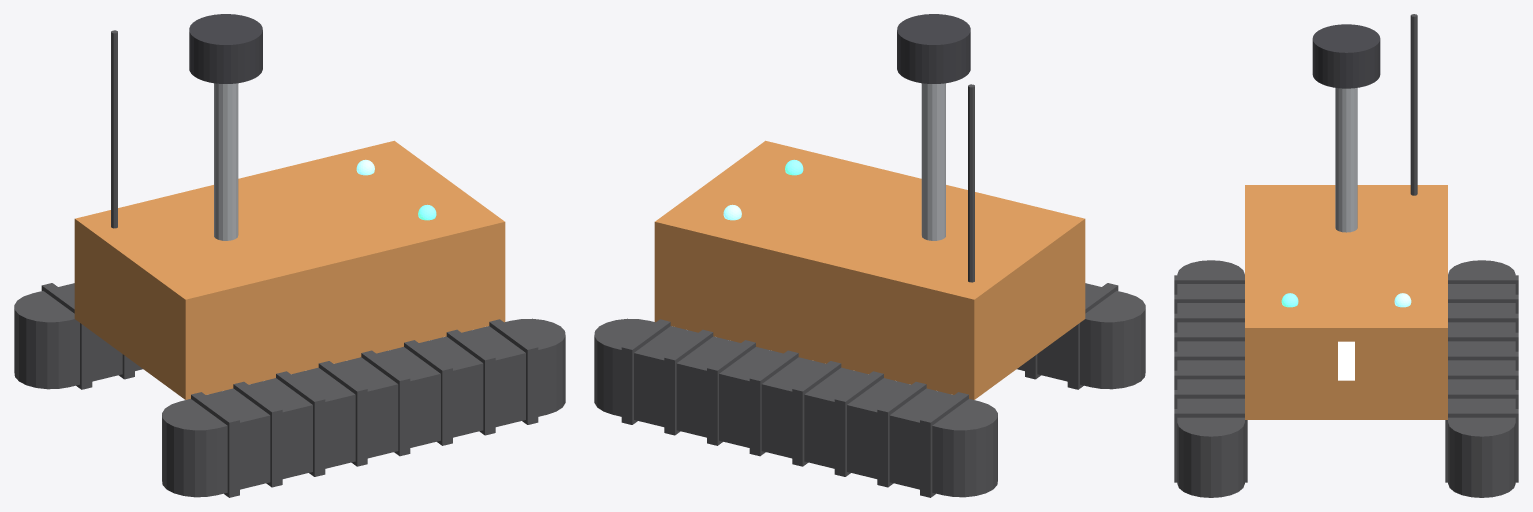
The model's file is robot.glb.
3 views of the same model, side by side, from view 1: azimuth 30°, elevation 25°; view 2: azimuth 150°, elevation 25°; view 3: azimuth 270°, elevation 25° (orthographic). The views are drawn at different scales.
Parts seen in each view (by area): view 1: body, track_L, track_R, lidar, mast, antenna; view 2: body, track_R, track_L, lidar, mast, antenna; view 3: body, track_L, track_R, lidar, mast, antenna, headlight.
Boxes of the visible parts, x1=… form: body: x1=74, y1=140, x2=505, y2=399; track_L: x1=162, y1=318, x2=565, y2=497; track_R: x1=14, y1=283, x2=142, y2=389; lidar: x1=189, y1=14, x2=262, y2=83; mast: x1=214, y1=83, x2=238, y2=240; antenna: x1=111, y1=30, x2=117, y2=228; body: x1=654, y1=140, x2=1085, y2=399; track_R: x1=594, y1=318, x2=997, y2=497; track_L: x1=1017, y1=283, x2=1145, y2=389; lidar: x1=897, y1=14, x2=970, y2=83; mast: x1=921, y1=83, x2=945, y2=240; antenna: x1=968, y1=84, x2=974, y2=282; body: x1=1245, y1=185, x2=1447, y2=419; track_L: x1=1174, y1=260, x2=1247, y2=497; track_R: x1=1445, y1=260, x2=1518, y2=497; lidar: x1=1312, y1=24, x2=1380, y2=88; mast: x1=1335, y1=88, x2=1357, y2=232; antenna: x1=1410, y1=14, x2=1417, y2=195; headlight: x1=1338, y1=341, x2=1354, y2=380.
Size of the model in its own units: 0.74 by 0.6775 by 0.61.
